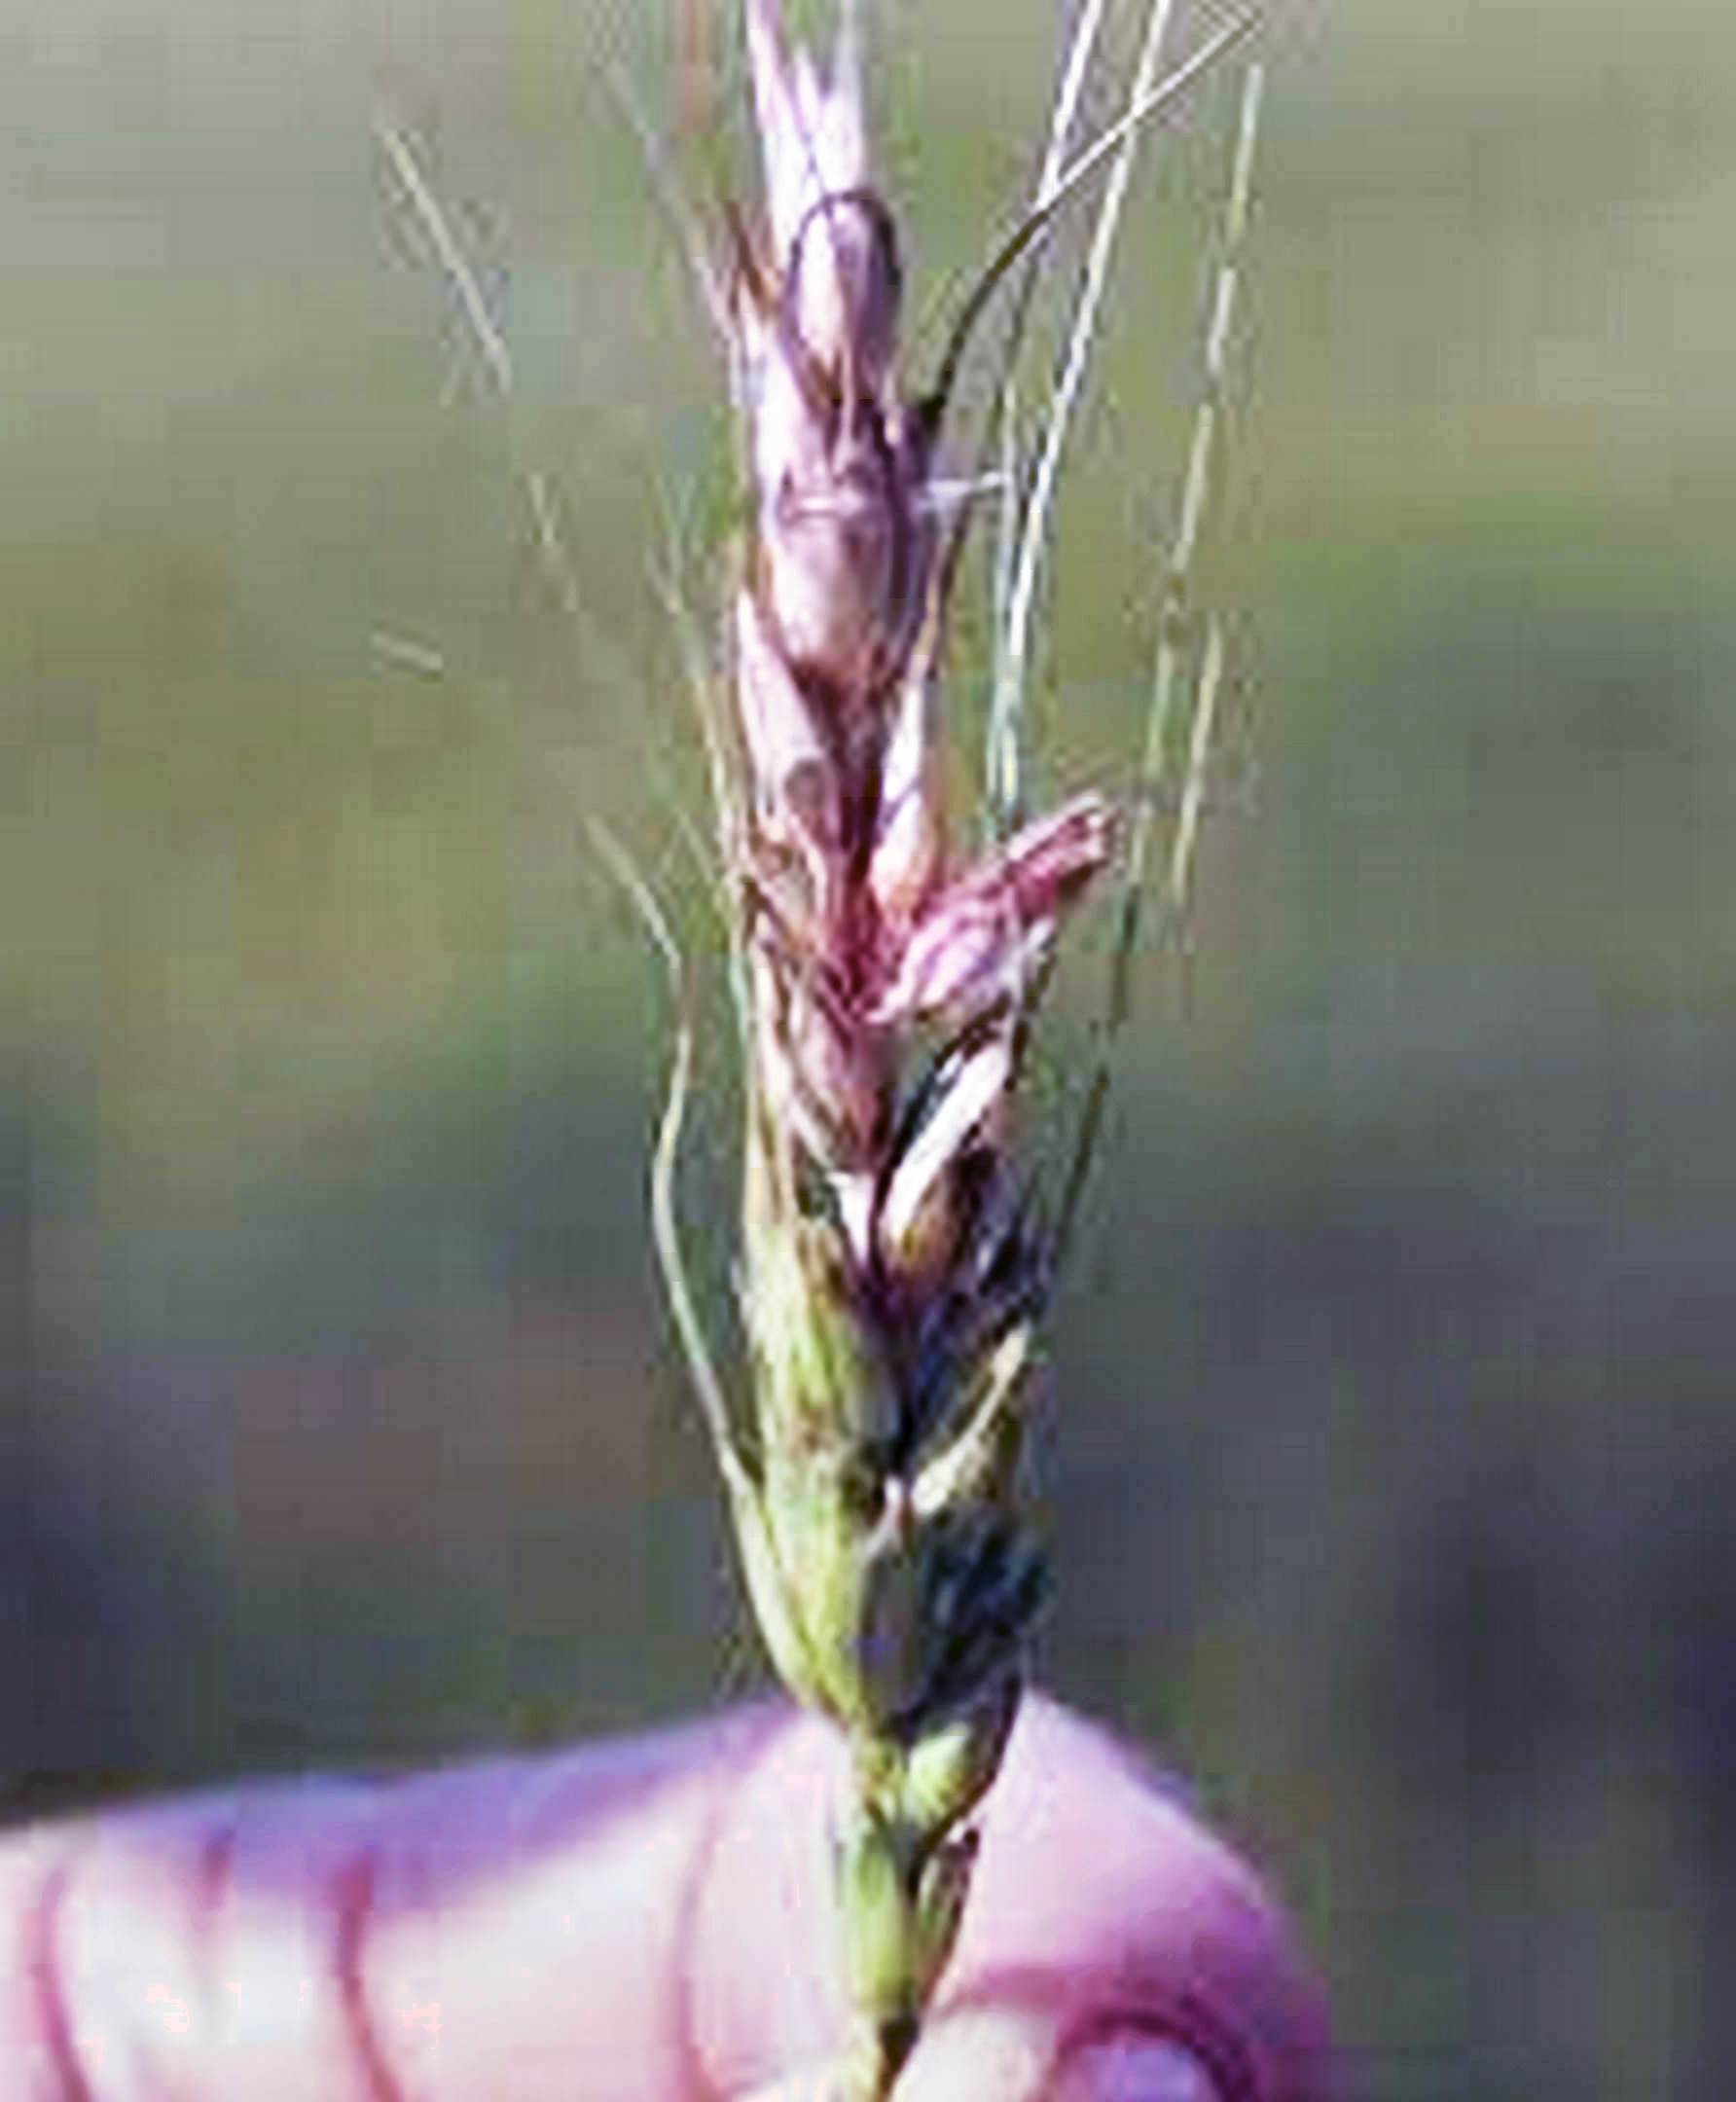Wheat scab: (604, 182, 1151, 1769)
